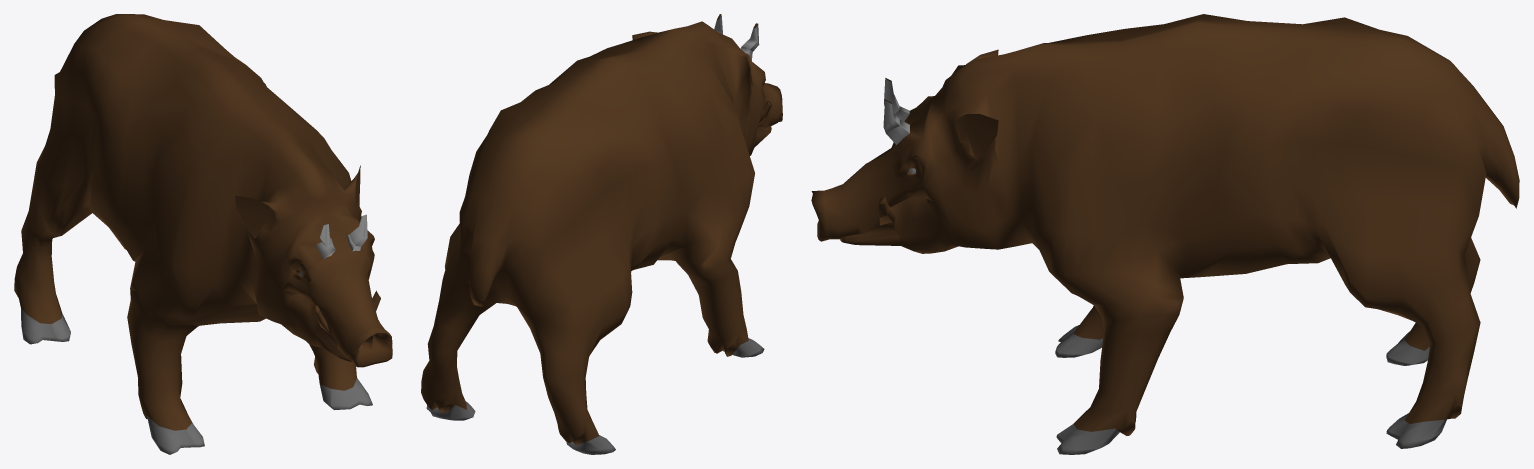
The model's file is BoarUpgraded.fbx.
The picture shows the model from 3 angles, left to right: view 1: azimuth 30°, elevation 25°; view 2: azimuth 150°, elevation 25°; view 3: azimuth 270°, elevation 25°; orthographic projection. The views are drawn at different scales.
Parts seen in each view (by area): view 1: Cube.009; view 2: Cube.009; view 3: Cube.009.
Boxes of the visible parts, x1=… form: Cube.009: x1=14, y1=14, x2=392, y2=454; Cube.009: x1=421, y1=14, x2=782, y2=454; Cube.009: x1=811, y1=14, x2=1519, y2=454.
Bounding box in the file's own units: 91.42 × 135 × 230.
